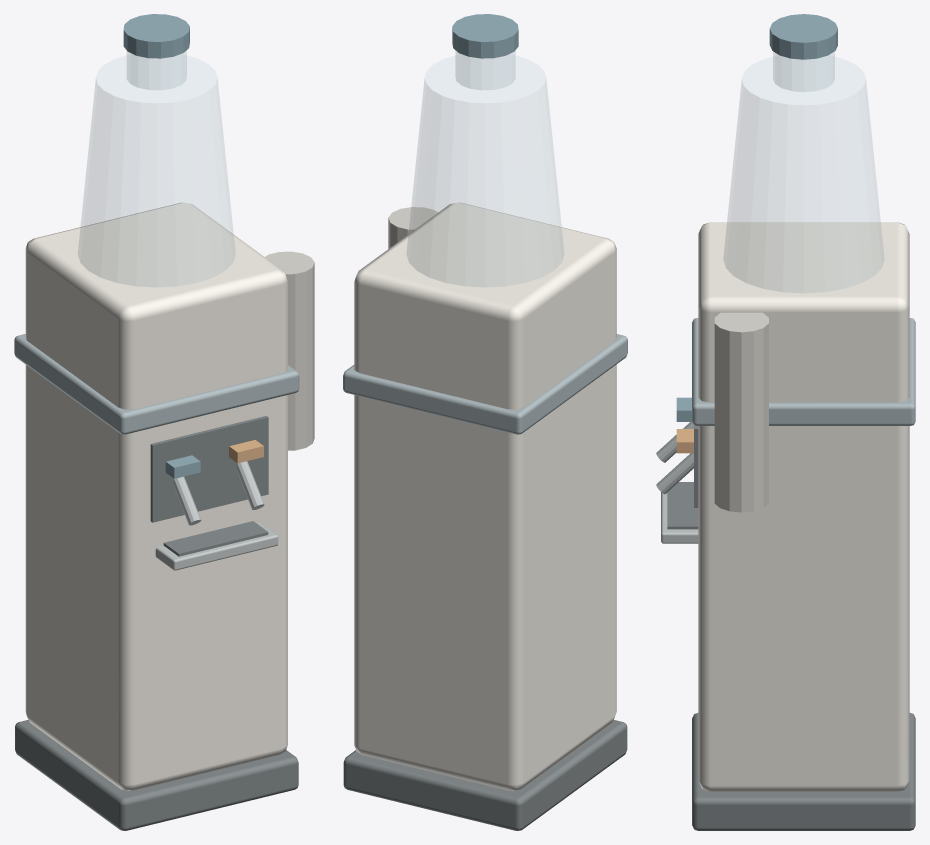
The model's file is water-cooler.glb.
3 renders of one model, left to right at view 1: azimuth 30°, elevation 25°; view 2: azimuth 150°, elevation 25°; view 3: azimuth 270°, elevation 25°, orthographic. The views are drawn at different scales.
Parts seen in each view (by area): view 1: 155-water-cooler/1, 155-water-cooler/3, 155-water-cooler/0, 155-water-cooler/2, 155-water-cooler/7, 155-water-cooler/4, 155-water-cooler/5, 155-water-cooler/6; view 2: 155-water-cooler/1, 155-water-cooler/3, 155-water-cooler/0, 155-water-cooler/2, 155-water-cooler/4, 155-water-cooler/7; view 3: 155-water-cooler/1, 155-water-cooler/3, 155-water-cooler/0, 155-water-cooler/7, 155-water-cooler/2, 155-water-cooler/4, 155-water-cooler/5.
Boxes of the visible parts, x1,y1,x2,y2 form: 155-water-cooler/1: [25, 202, 287, 790]; 155-water-cooler/3: [78, 51, 235, 287]; 155-water-cooler/0: [15, 415, 298, 830]; 155-water-cooler/2: [14, 334, 299, 434]; 155-water-cooler/7: [265, 251, 314, 450]; 155-water-cooler/4: [123, 14, 200, 478]; 155-water-cooler/5: [155, 461, 278, 570]; 155-water-cooler/6: [229, 440, 263, 463]; 155-water-cooler/1: [354, 202, 616, 790]; 155-water-cooler/3: [406, 51, 564, 287]; 155-water-cooler/0: [343, 720, 627, 830]; 155-water-cooler/2: [343, 334, 627, 434]; 155-water-cooler/4: [452, 14, 518, 58]; 155-water-cooler/7: [388, 207, 437, 248]; 155-water-cooler/1: [698, 222, 909, 791]; 155-water-cooler/3: [723, 52, 884, 292]; 155-water-cooler/0: [667, 425, 915, 830]; 155-water-cooler/7: [714, 312, 768, 512]; 155-water-cooler/2: [692, 318, 915, 425]; 155-water-cooler/4: [676, 14, 837, 421]; 155-water-cooler/5: [656, 422, 698, 543].
Bounding box in the file's own units: 0.405 × 1.35 × 0.4178.
